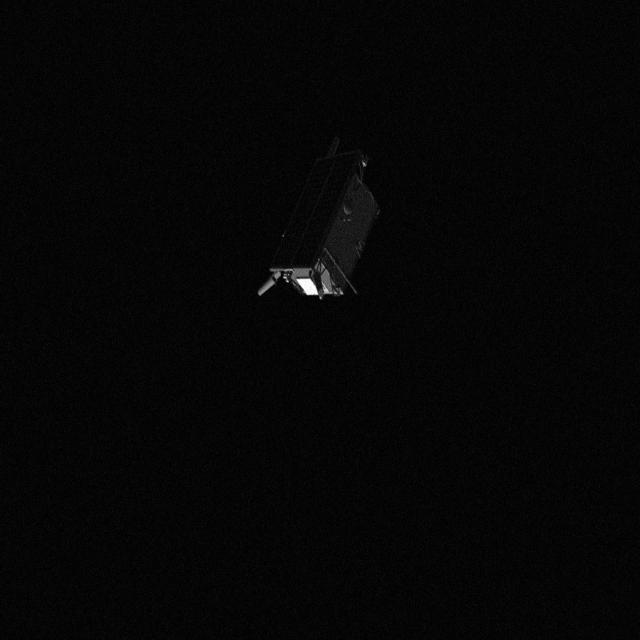medium_debris: (252, 152, 382, 320)
